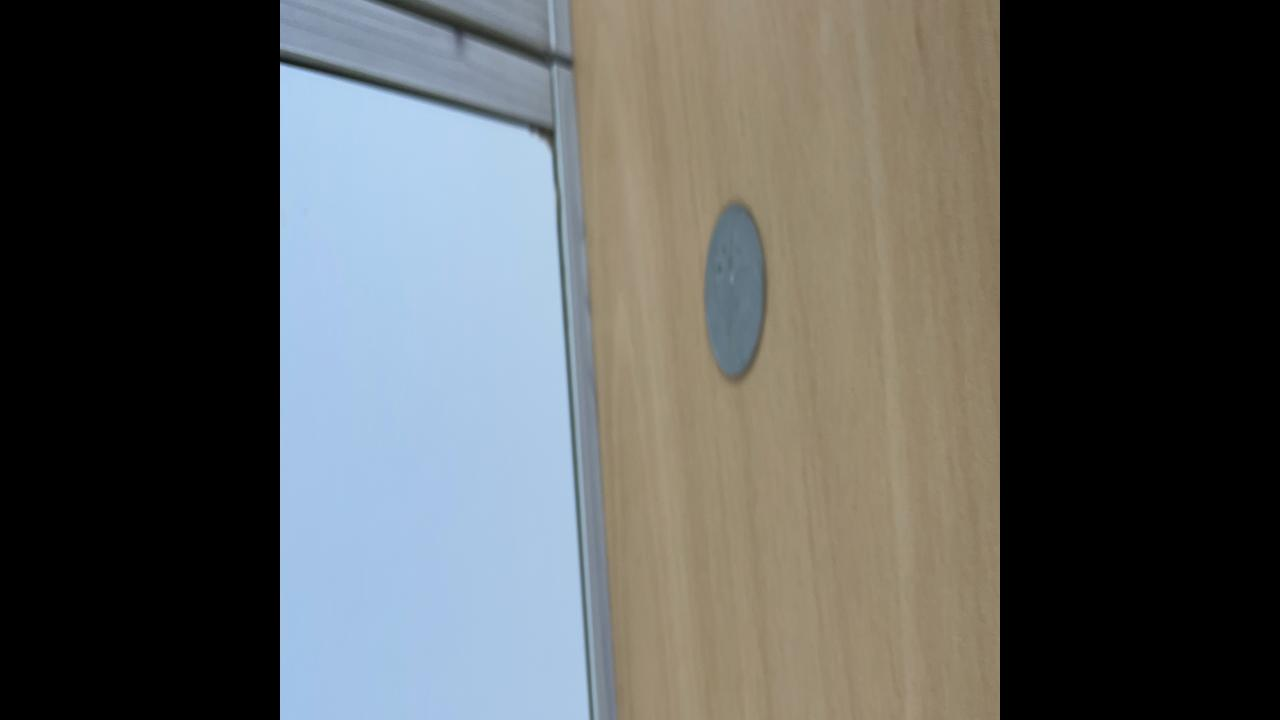coin: (700, 194, 768, 387)
